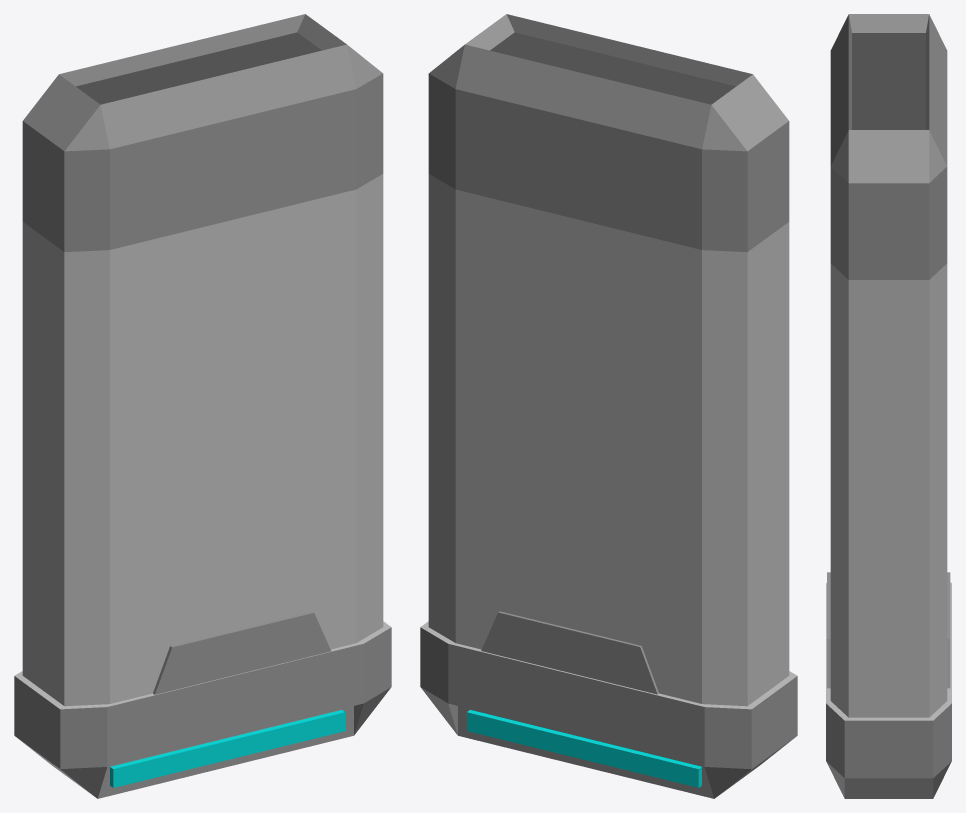
File: SM_Mag_M.fbx
3 renders of one model, left to right at view 1: azimuth 30°, elevation 25°; view 2: azimuth 150°, elevation 25°; view 3: azimuth 270°, elevation 25°, orthographic. The views are drawn at different scales.
Visible parts, largest first — view 1: SM_Mag_M; view 2: SM_Mag_M; view 3: SM_Mag_M.
Part boxes in pixels (box(x1,y1,x2,y2)): SM_Mag_M: box(14, 14, 391, 798); SM_Mag_M: box(420, 14, 797, 798); SM_Mag_M: box(826, 14, 951, 798).
Size of the model in its own units: 6.39 by 12.75 by 2.18.
